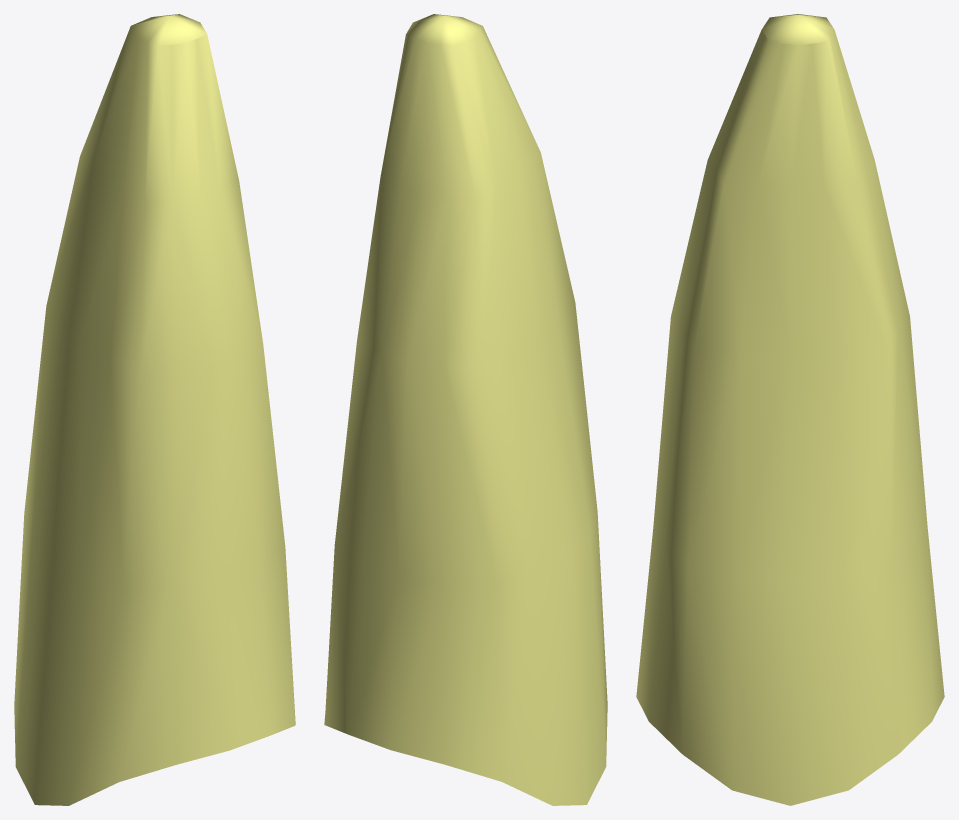
Rendered from D63R_Raiz.obj.
3 views of the same model, side by side, from view 1: azimuth 30°, elevation 25°; view 2: azimuth 150°, elevation 25°; view 3: azimuth 270°, elevation 25° (orthographic). The views are drawn at different scales.
Parts seen in each view (by area): view 1: D63R_Raiz; view 2: D63R_Raiz; view 3: D63R_Raiz.
Boxes of the visible parts, <box> form: D63R_Raiz: <box>14,14,295,805</box>; D63R_Raiz: <box>324,14,607,805</box>; D63R_Raiz: <box>636,14,944,805</box>.
Size of the model in its own units: 5.05 by 15.13 by 5.47.
